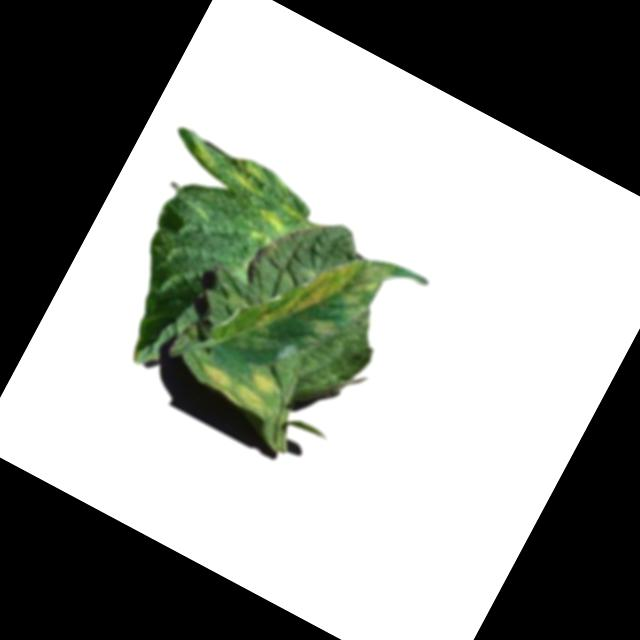Leaf_Mold: (281, 232, 396, 348), (192, 340, 287, 421), (223, 152, 275, 200), (245, 205, 295, 253)
